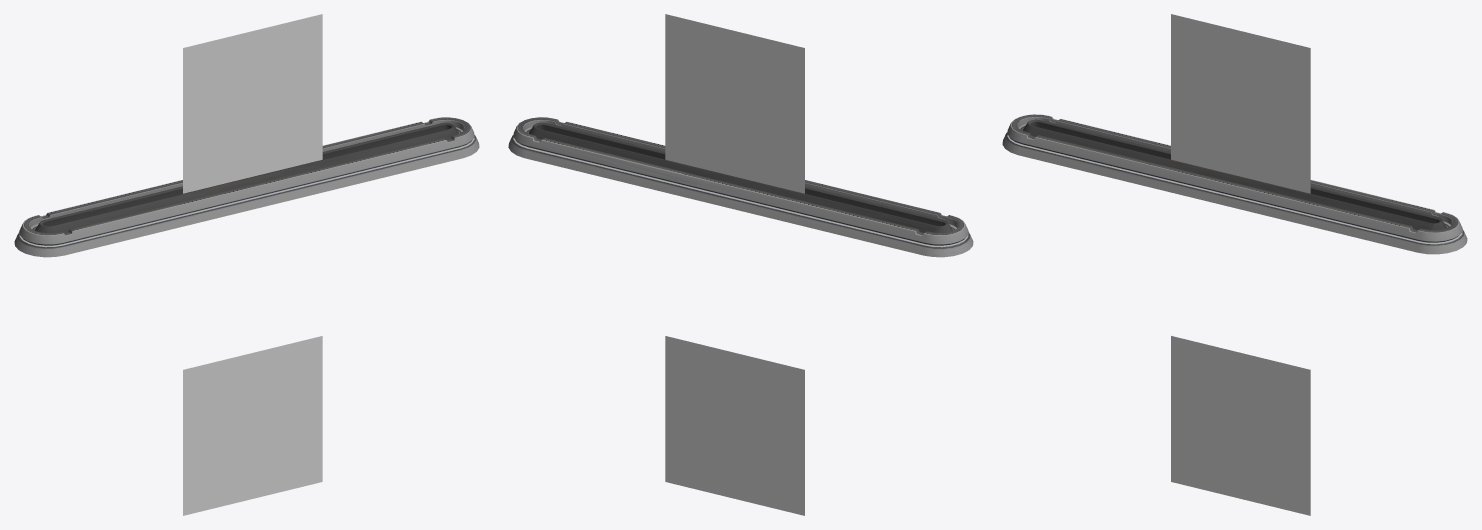
The model's file is WallTarget.fbx.
The picture shows the model from 3 angles, left to right: view 1: azimuth 30°, elevation 25°; view 2: azimuth 150°, elevation 25°; view 3: azimuth 330°, elevation 25°; orthographic projection.
Parts seen in each view (by area): view 1: Plane.003, Plane.002, WallTarget; view 2: Plane.003, Plane.002, WallTarget; view 3: Plane.003, Plane.002, WallTarget.
Part boxes in pixels (x1=…): Plane.003: x1=183, y1=336, x2=322, y2=515; Plane.002: x1=183, y1=14, x2=322, y2=193; WallTarget: x1=14, y1=117, x2=479, y2=257; Plane.003: x1=665, y1=336, x2=804, y2=515; Plane.002: x1=665, y1=14, x2=804, y2=193; WallTarget: x1=508, y1=117, x2=973, y2=257; Plane.003: x1=1171, y1=336, x2=1310, y2=515; Plane.002: x1=1171, y1=14, x2=1310, y2=193; WallTarget: x1=1002, y1=114, x2=1467, y2=254.
Bounding box in the file's own units: 1.27 × 1.24 × 0.1615.
